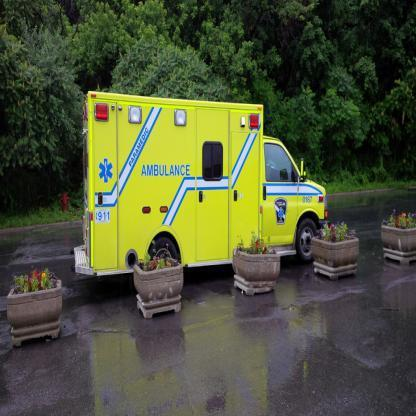Ambulance - v1 Ambulance last generate: (72, 90, 328, 275)
